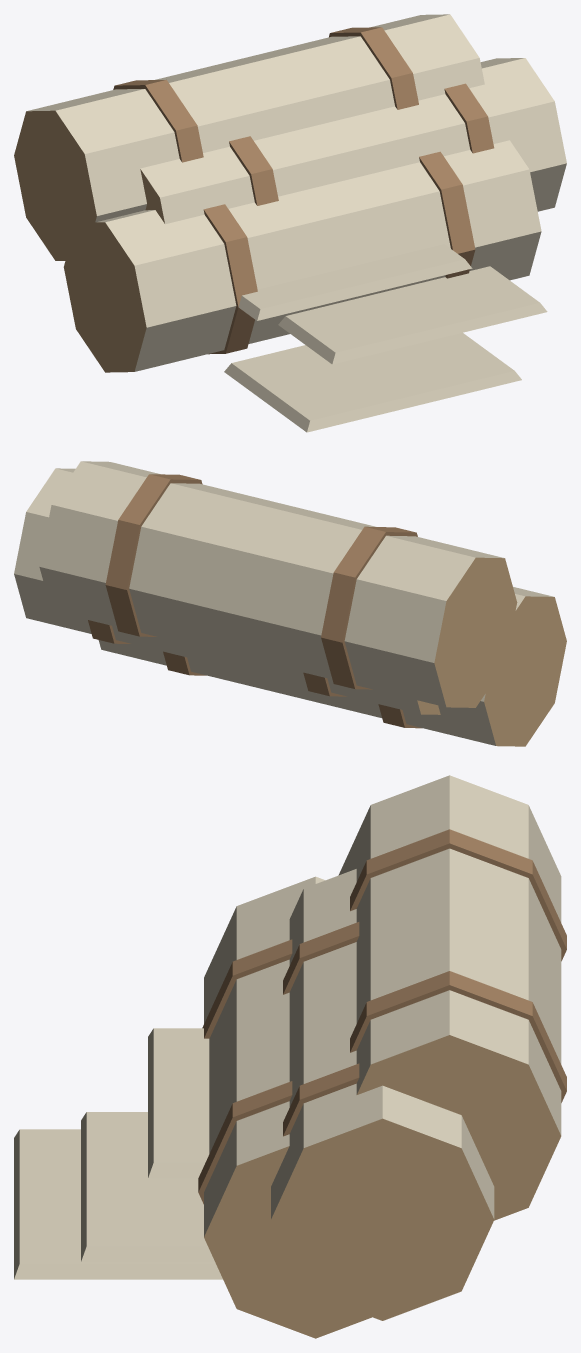
Rendered from item_034_linen_cloth_m.glb.
The picture shows the model from 3 angles, top to bottom: view 1: azimuth 30°, elevation 25°; view 2: azimuth 150°, elevation 25°; view 3: azimuth 270°, elevation 25°; orthographic projection. The views are drawn at different scales.
Visible parts, largest first — view 1: item_034_linen_cloth_m; view 2: item_034_linen_cloth_m; view 3: item_034_linen_cloth_m.
Part boxes in pixels (bbox=[...]): item_034_linen_cloth_m: bbox=[14, 14, 566, 432]; item_034_linen_cloth_m: bbox=[14, 461, 566, 746]; item_034_linen_cloth_m: bbox=[14, 775, 566, 1338].
Size of the model in its own units: 0.62 by 0.31 by 0.495.
